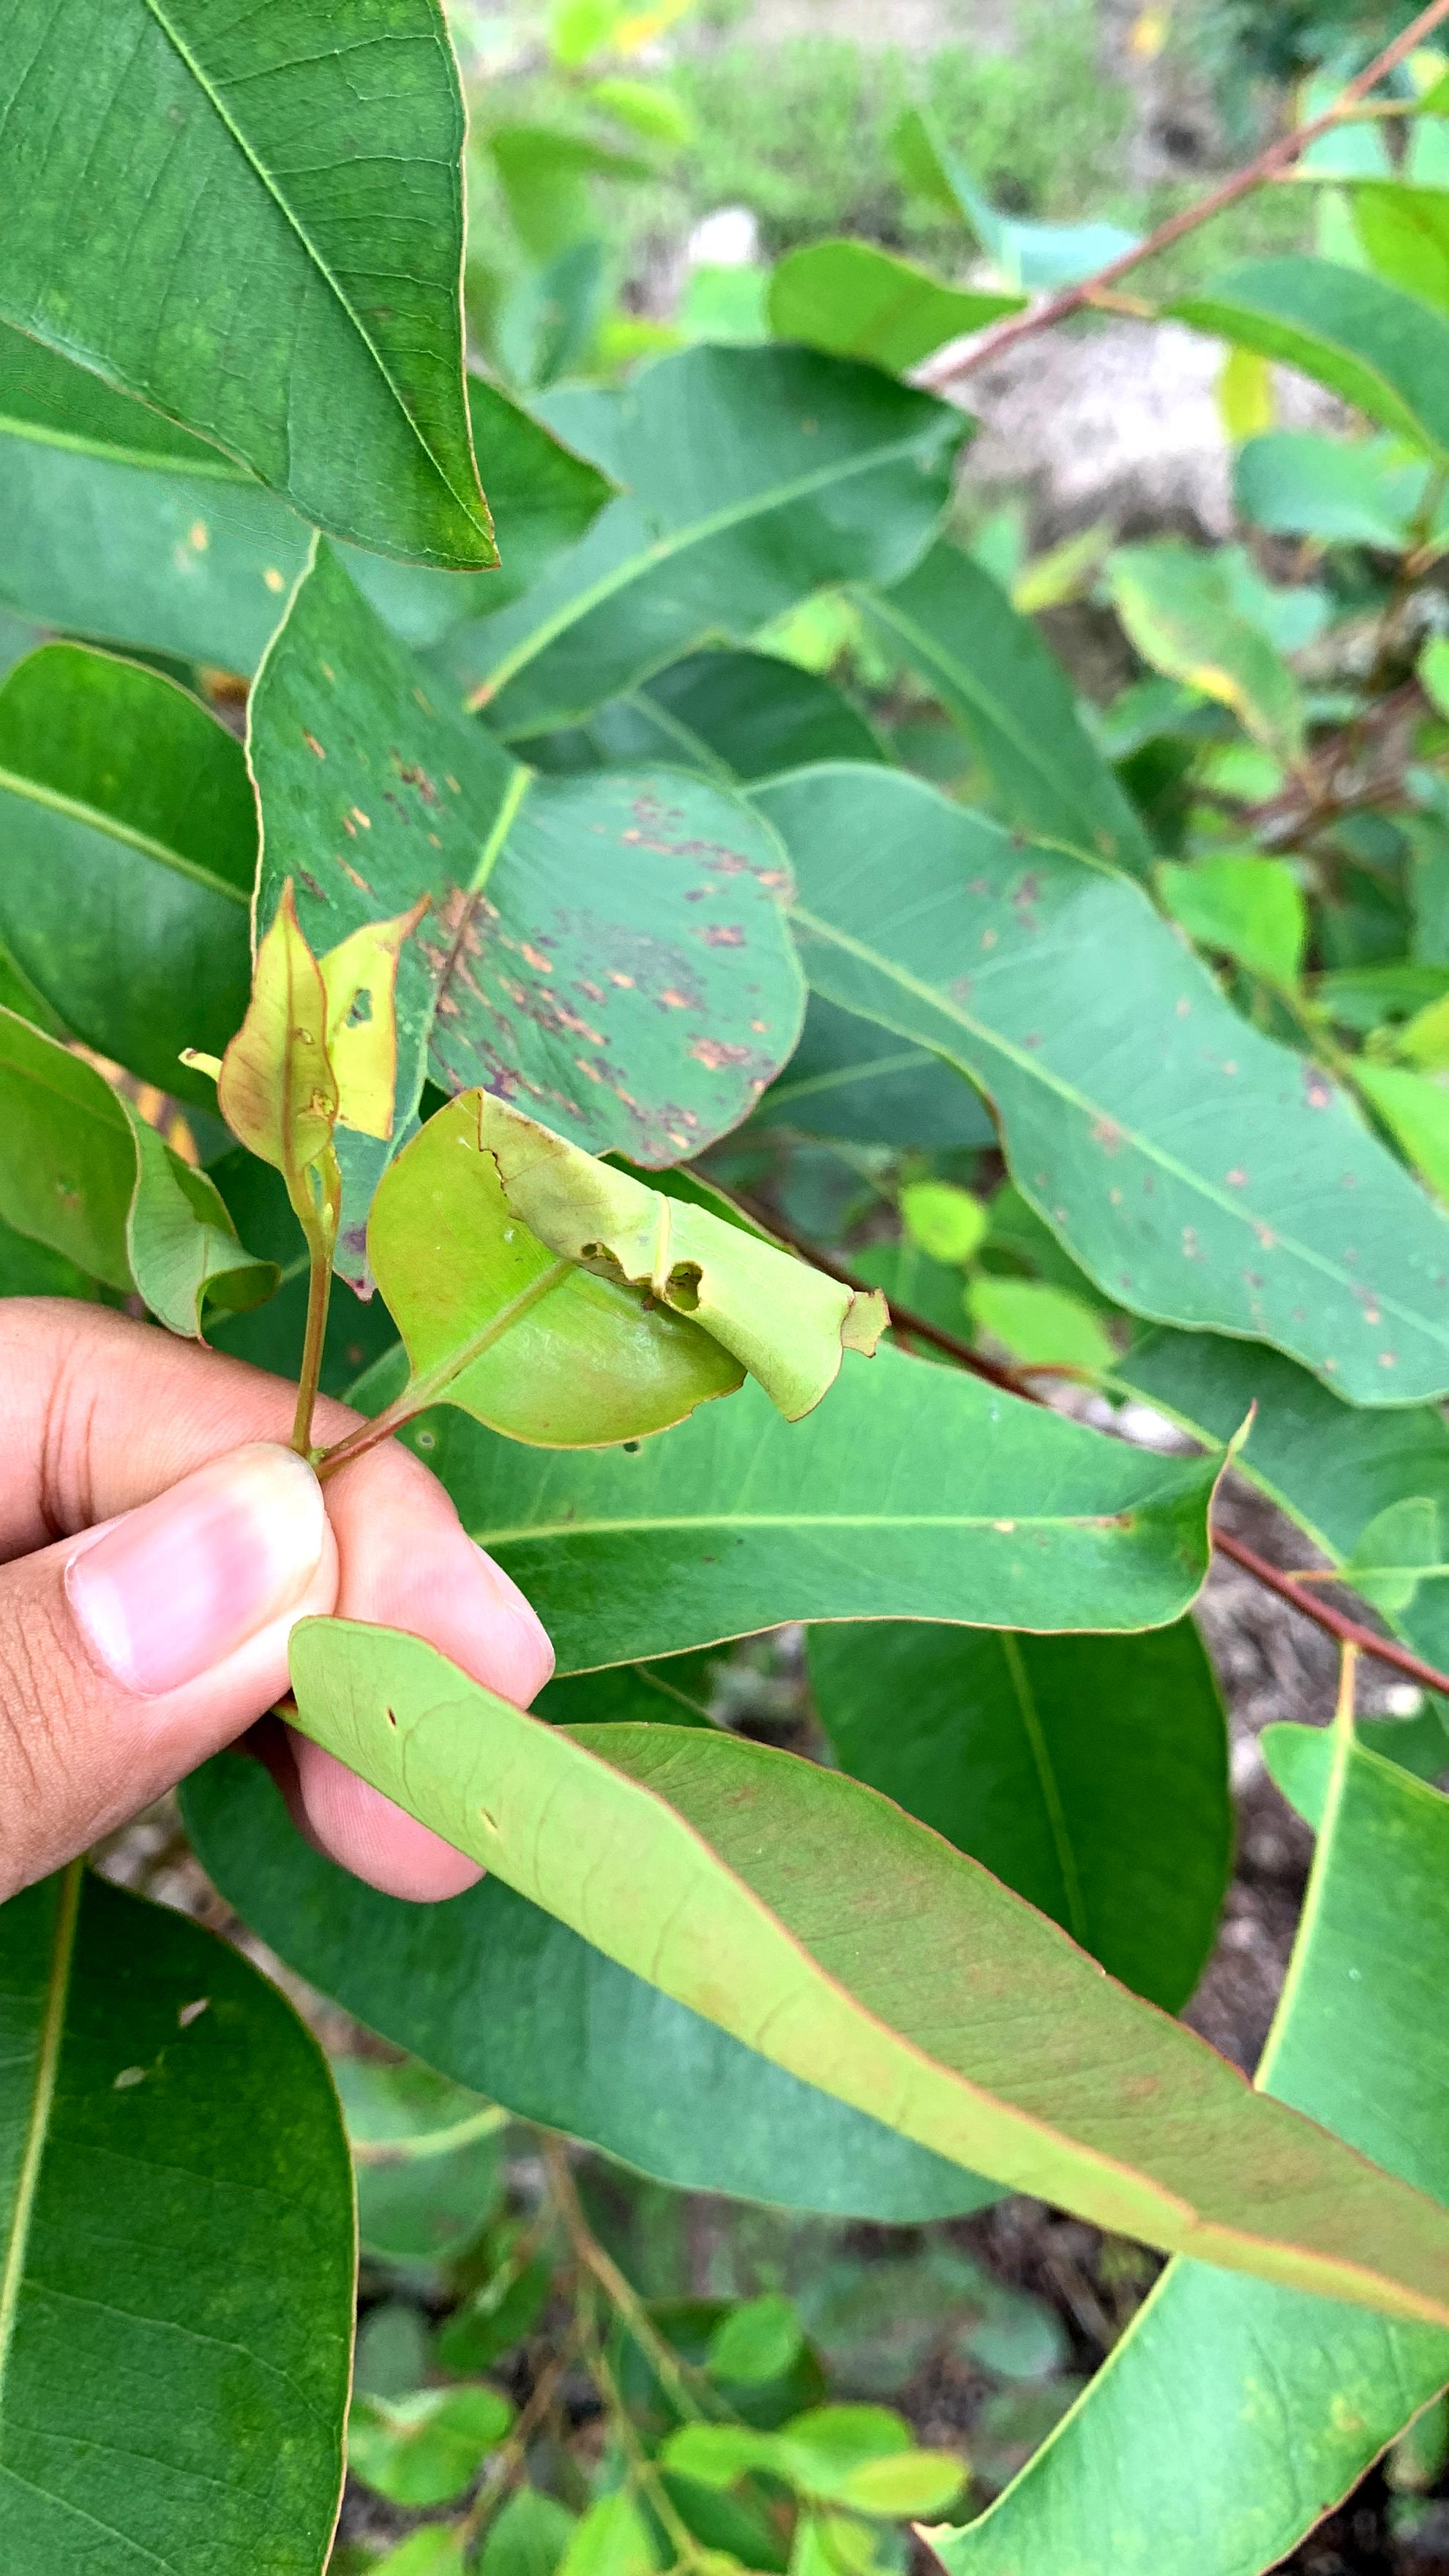Leaf Roller - Leaf: (184, 886, 915, 1523)
